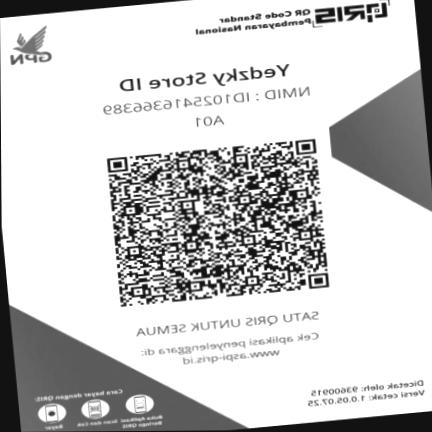Cara Pakai QRIS: (23, 382, 174, 432)
Cek Aplikasi Penyelenggara: (121, 326, 335, 376)
Dicetak Oleh: (306, 377, 428, 398)
Logo GPN: (0, 21, 63, 72)
Logo dan deskripsi QRIS: (182, 0, 400, 43)
Nama Merchant: (113, 58, 303, 97)
National Merchant ID: (90, 83, 318, 123)
QR Code: (93, 124, 344, 314)
Slogan: (124, 304, 328, 341)
Terminal ID: (188, 112, 230, 129)
Versi Cetak: (304, 388, 430, 409)
